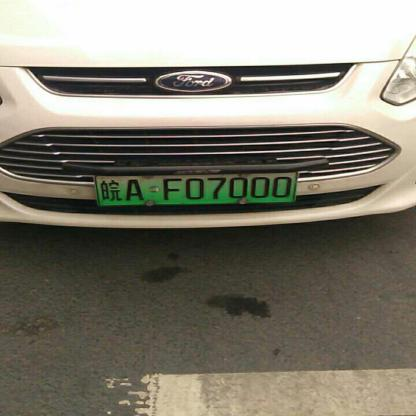lp: (94, 172, 296, 204)
